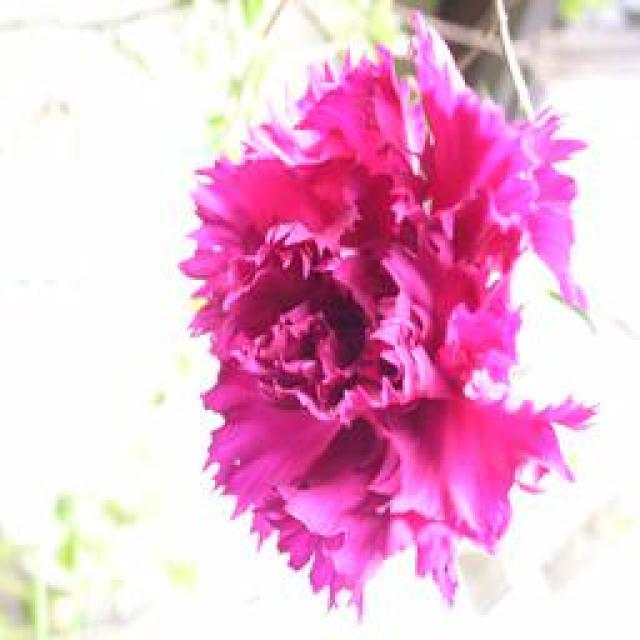carnation: (175, 34, 582, 602)
